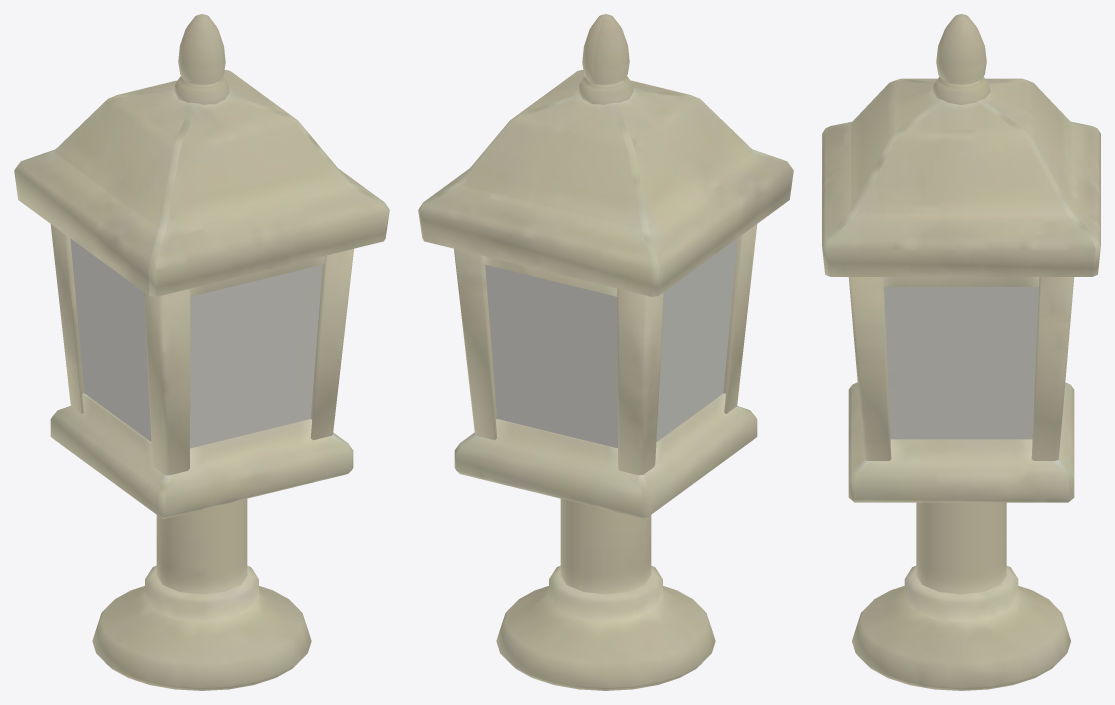
Rendered from garden-lantern-white.glb.
The picture shows the model from 3 angles, left to right: view 1: azimuth 30°, elevation 25°; view 2: azimuth 150°, elevation 25°; view 3: azimuth 270°, elevation 25°; orthographic projection.
Size of the model in its own units: 3.77 by 9.44 by 3.77.
1 material, 1 textured.
